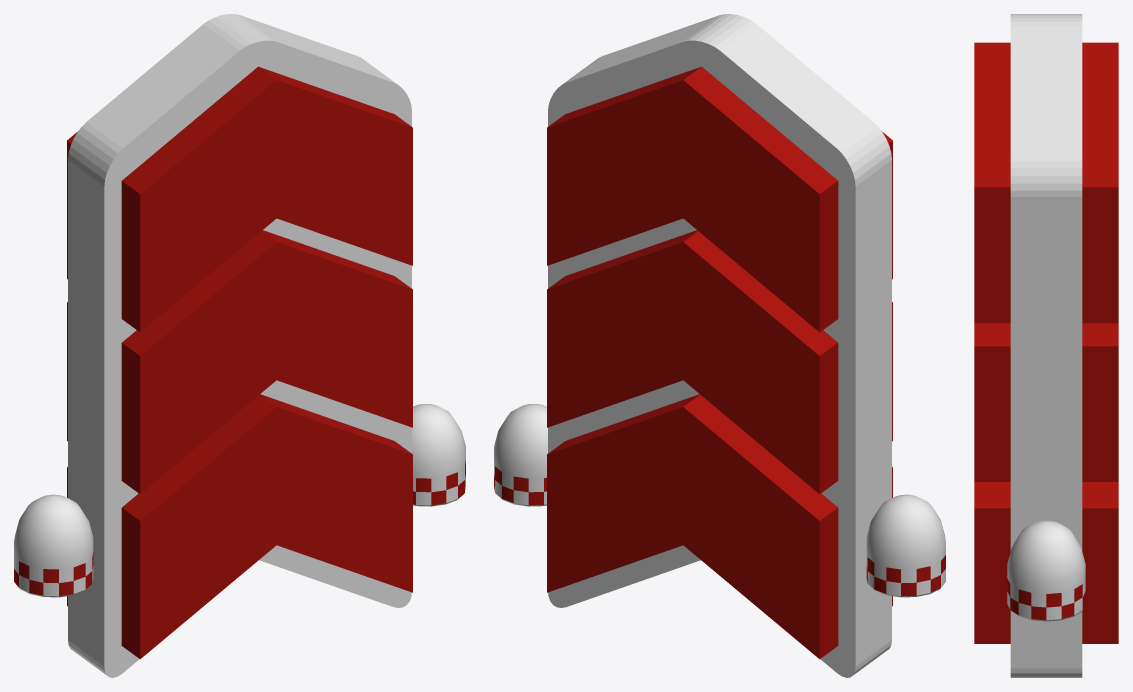
File: SM_Super_Boost_Pickup.fbx
The picture shows the model from 3 angles, left to right: view 1: azimuth 30°, elevation 25°; view 2: azimuth 150°, elevation 25°; view 3: azimuth 270°, elevation 25°; orthographic projection.
Parts seen in each view (by area): view 1: Super Boost Pickup; view 2: Super Boost Pickup; view 3: Super Boost Pickup.
Boxes of the visible parts, x1,y1,x2,y2 form: Super Boost Pickup: (14, 14, 465, 677); Super Boost Pickup: (494, 14, 945, 677); Super Boost Pickup: (974, 14, 1118, 677).
Bounding box in the file's own units: 183 × 238 × 52.69.
